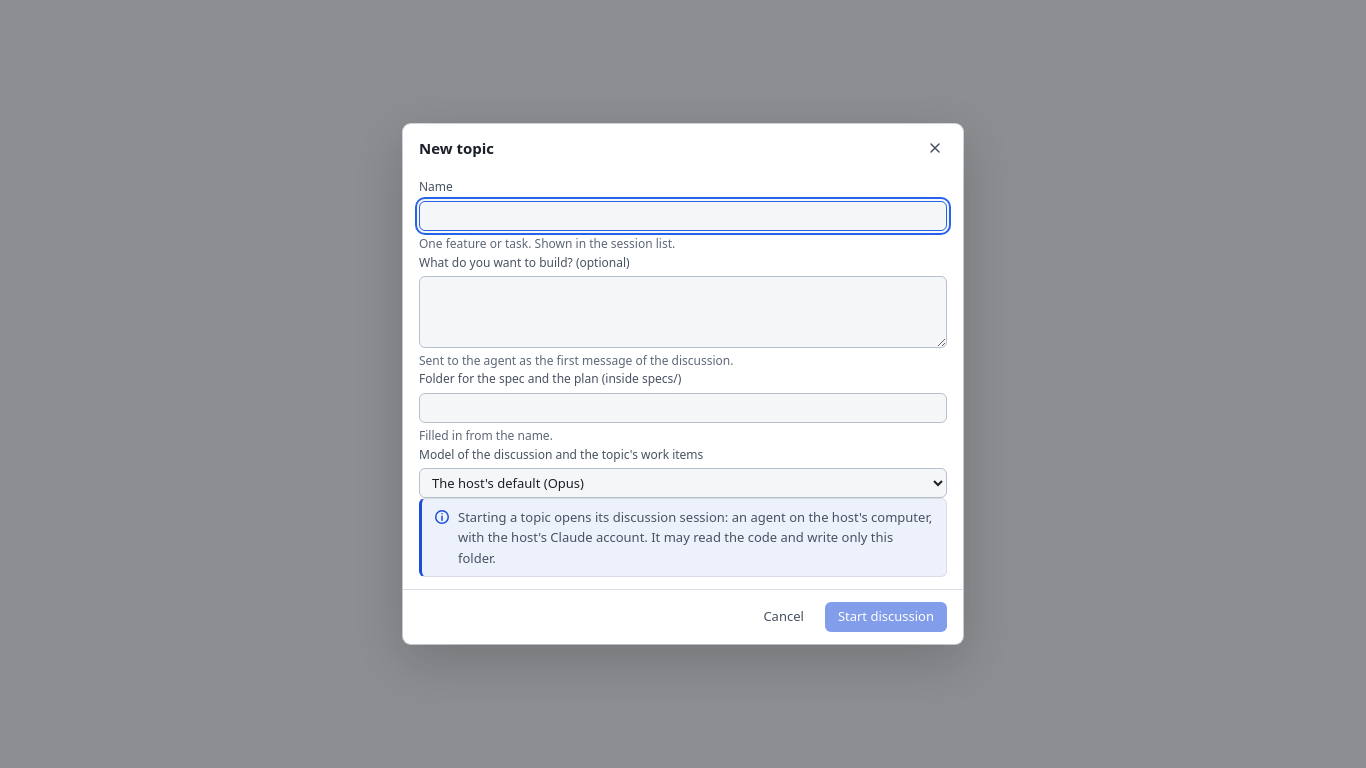
Test case: New topic: the form › a refusal about the folder stands under its field and the dialog stays open; any other one is a banner
The image size is (1366, 768).
In the field labelled "Name": {"x": 683, "y": 216} x1=419 y1=201 x2=947 y2=231, type "Checkout"
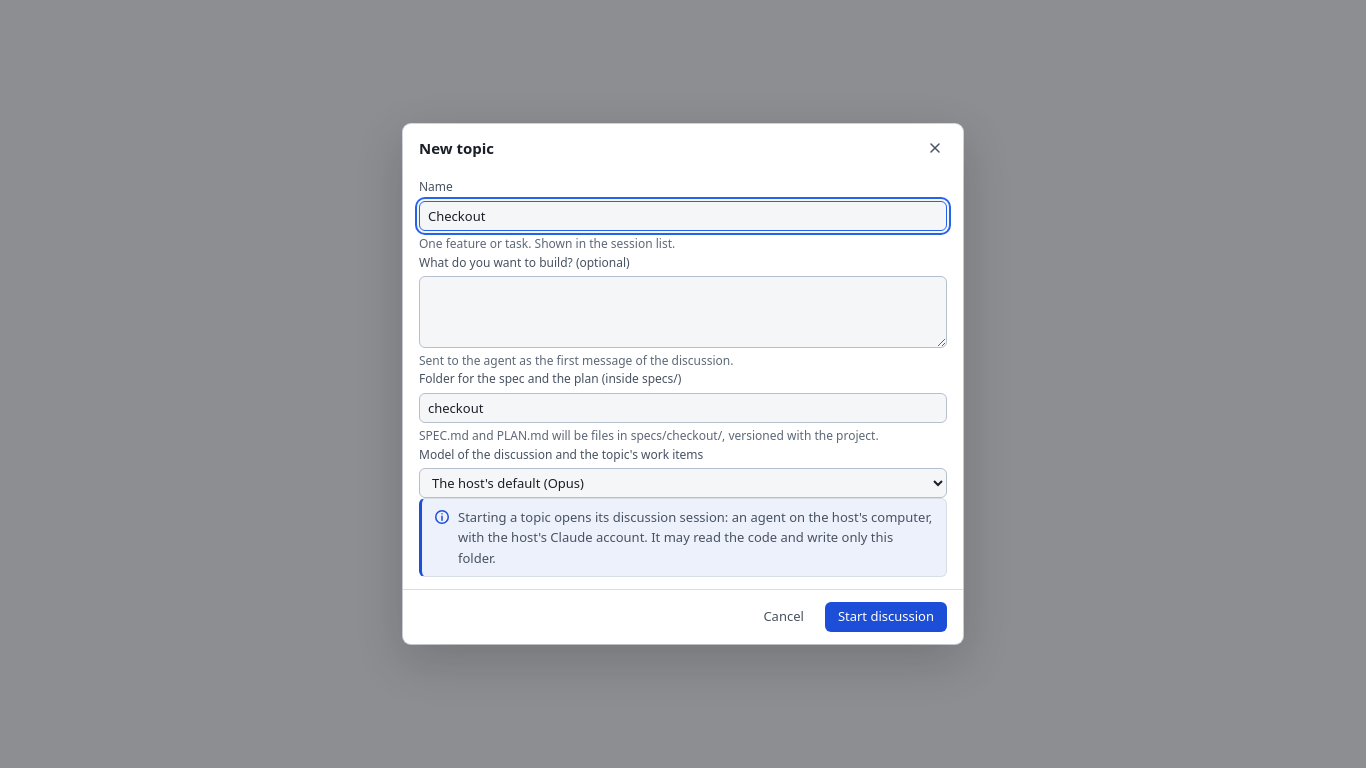
Click the button "Start discussion": {"x": 886, "y": 617} x1=825 y1=602 x2=947 y2=632
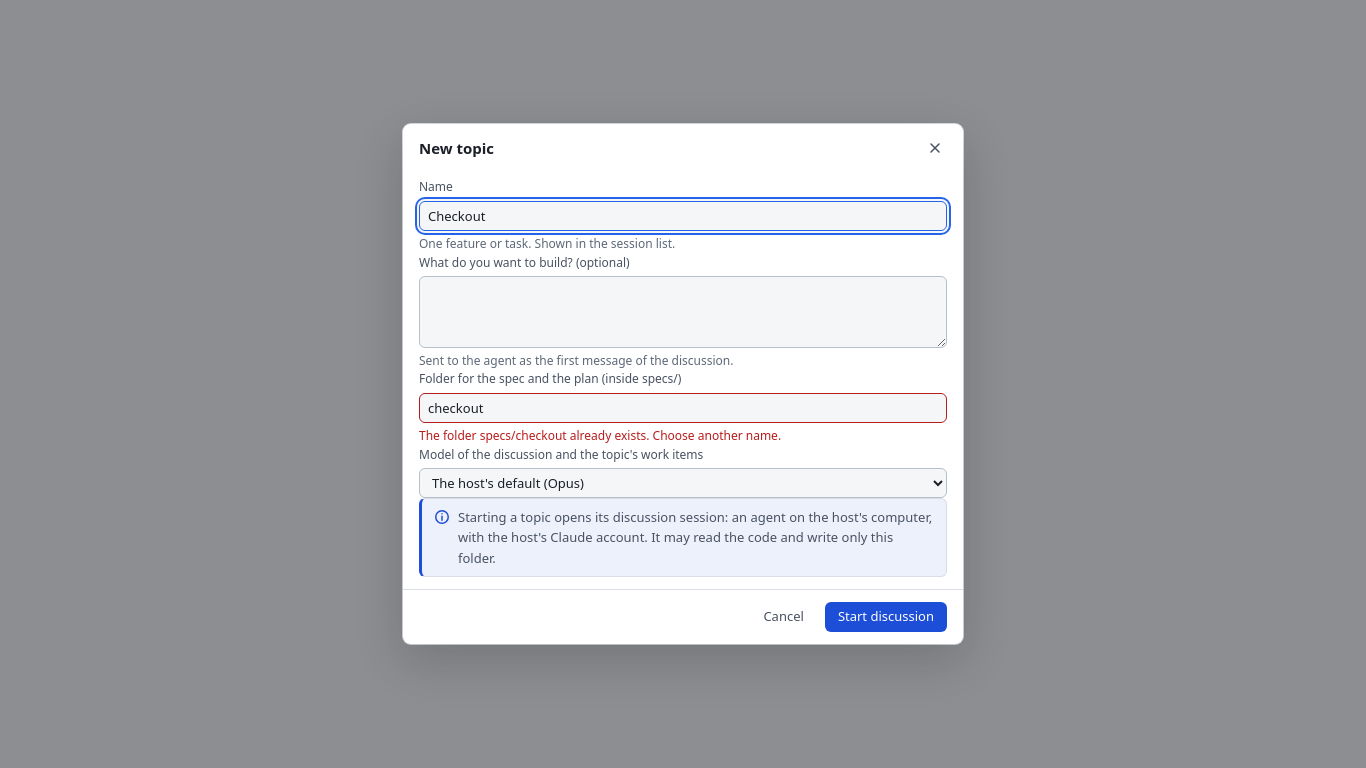
Replace the text in the field labelled "Folder for the spec and the plan (inside specs/)" with "checkout-2": {"x": 683, "y": 408} x1=419 y1=393 x2=947 y2=423
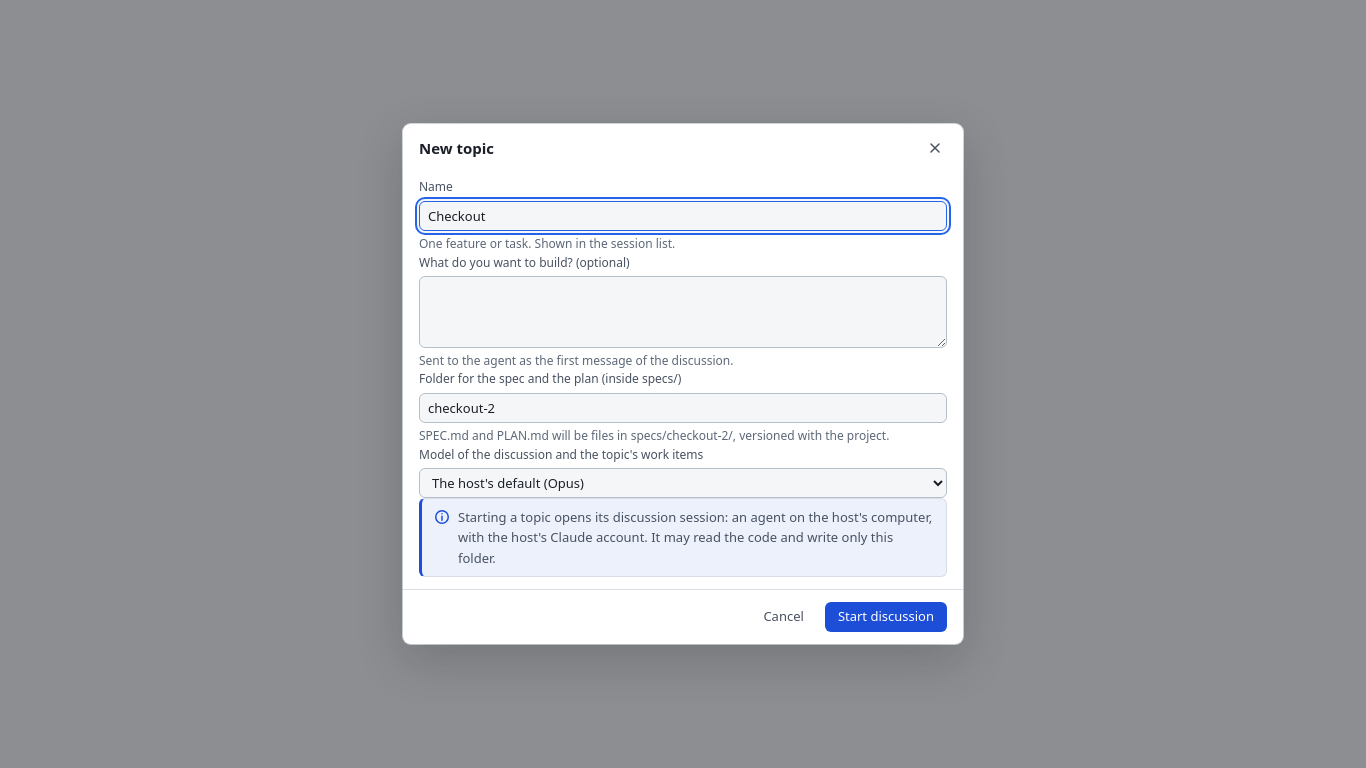
Expected: the text "The folder specs/checkout already exists. Choose another name." is gone
Click the button "Start discussion": {"x": 886, "y": 617} x1=825 y1=602 x2=947 y2=632
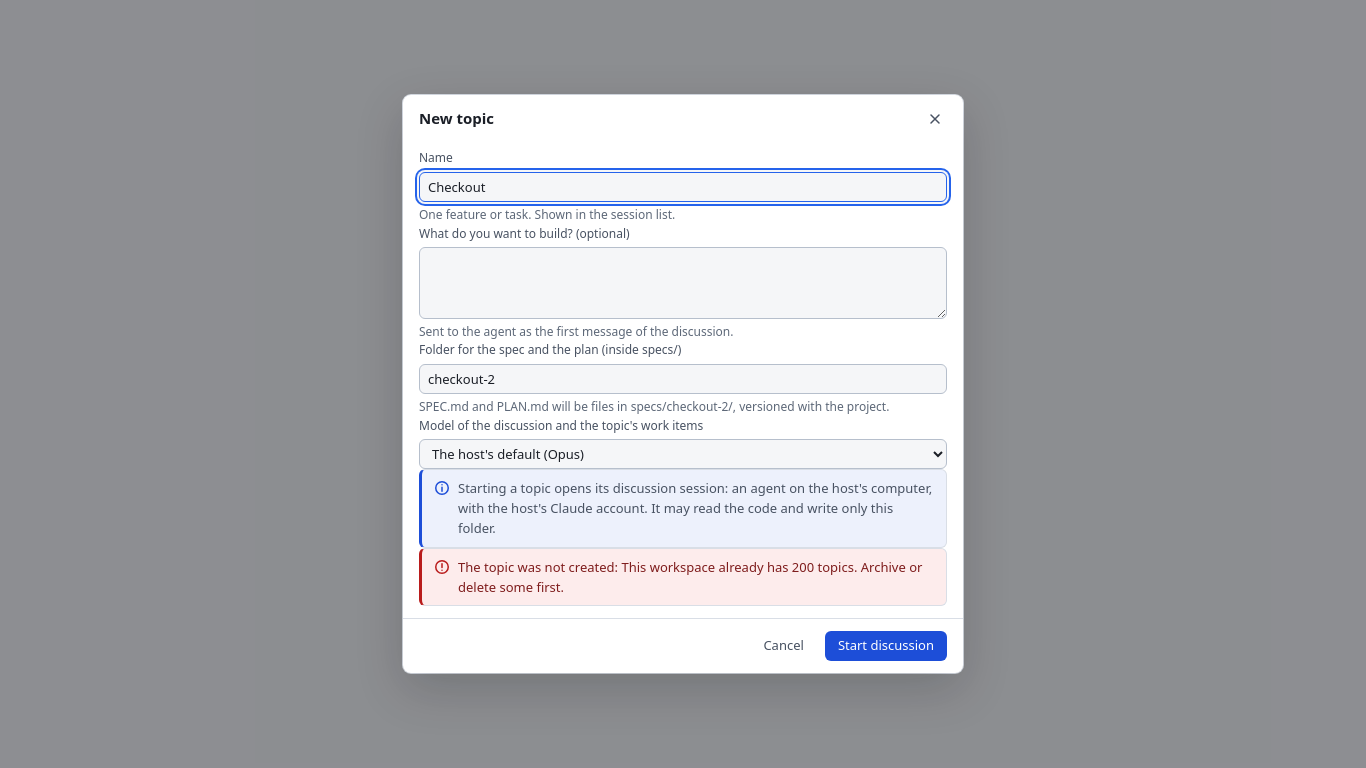
Expected: the text "The topic was not created: This workspace already has 200 topics." is shown, x1=458 y1=558 x2=922 y2=596
